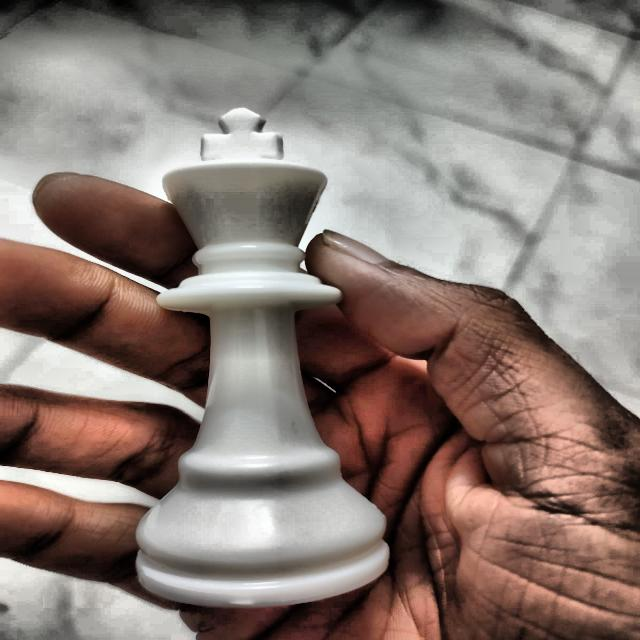WhiteKing: (132, 107, 392, 605)
